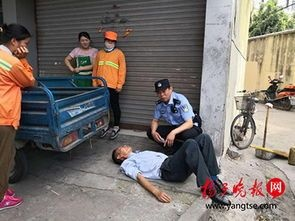falling: (105, 131, 240, 209)
